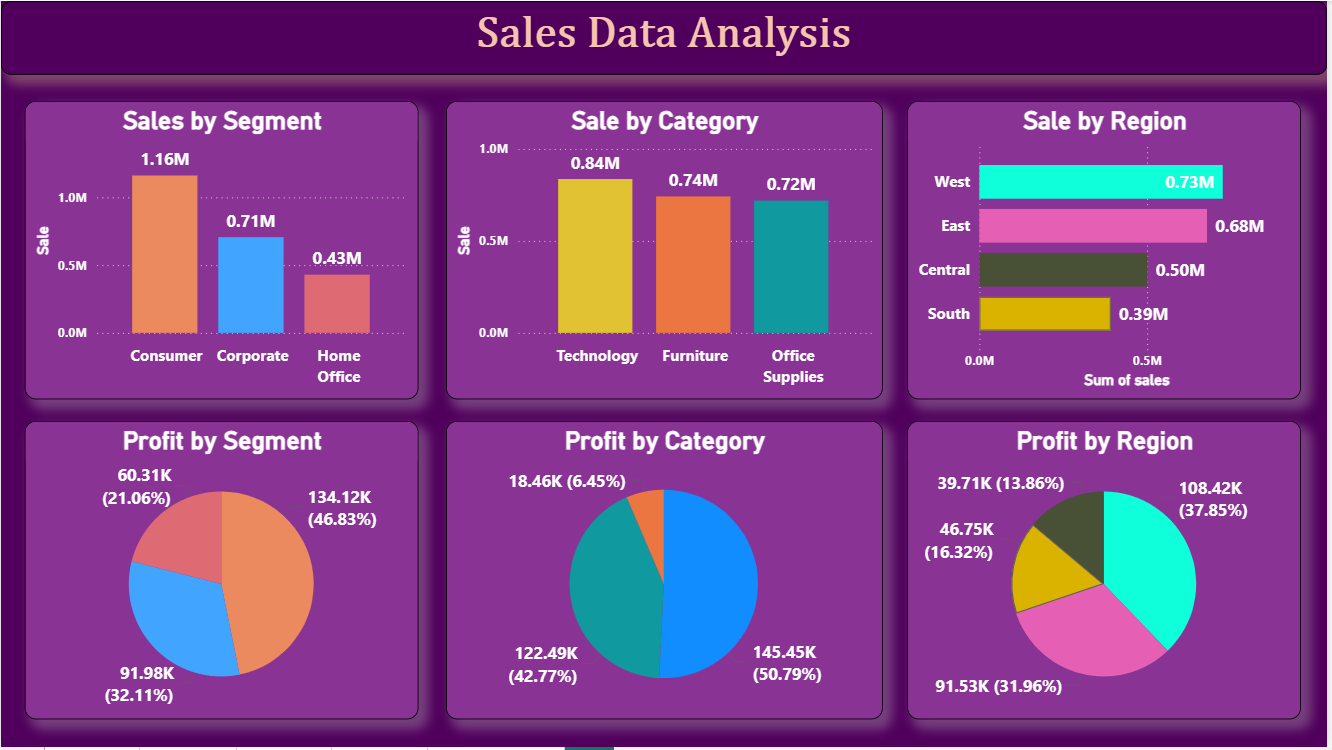

What the dashboard file says about the page in this screenshot:
{"tool":"powerbi","page":{"name":"Page 2","canvas":[1280,720],"ordinal":1},"visuals":[{"type":"textbox","box":[0,0,1280,71.2],"z":0},{"type":"clusteredColumnChart","title":"Sales by Segment","fields":{"Y":["Sum(sales_analysis sales_data.sales)"],"Category":["sales_analysis sales_data.segment"]},"box":[23.3,96.1,380.1,288.2],"z":1000},{"type":"pieChart","title":"Profit by Segment","fields":{"Category":["sales_analysis sales_data.segment"],"Y":["Sum(sales_analysis sales_data.profit)"]},"box":[23.3,404.8,380.1,288.2],"z":2000},{"type":"pieChart","title":"Profit by Category","fields":{"Category":["sales_analysis sales_data.category"],"Y":["Sum(sales_analysis sales_data.profit)"]},"box":[429.5,404.8,421.3,288.2],"z":3000},{"type":"clusteredColumnChart","title":"Sale by Category","fields":{"Y":["Sum(sales_analysis sales_data.sales)"],"Category":["sales_analysis sales_data.category"]},"box":[429.5,96.1,421.3,288.2],"z":4000},{"type":"barChart","title":"Sale by Region","fields":{"Category":["sales_analysis sales_data.region"],"Y":["Sum(sales_analysis sales_data.sales)"]},"box":[874.1,96.1,380.1,288.2],"z":5000},{"type":"pieChart","title":"Profit by Region","fields":{"Category":["sales_analysis sales_data.region"],"Y":["Sum(sales_analysis sales_data.profit)"]},"box":[874.1,404.8,380.1,288.2],"z":6000}]}

Visuals, with their boxes in screenshot pixels (x1, y1, x2, y2), scaled from the page's 1280x720 canvas onto the 1332x750 screenshot:
textbox: left=0, top=0, right=1331, bottom=74
"Sales by Segment" clusteredColumnChart: left=24, top=100, right=420, bottom=400
"Profit by Segment" pieChart: left=24, top=422, right=420, bottom=722
"Profit by Category" pieChart: left=447, top=422, right=885, bottom=722
"Sale by Category" clusteredColumnChart: left=447, top=100, right=885, bottom=400
"Sale by Region" barChart: left=910, top=100, right=1305, bottom=400
"Profit by Region" pieChart: left=910, top=422, right=1305, bottom=722
